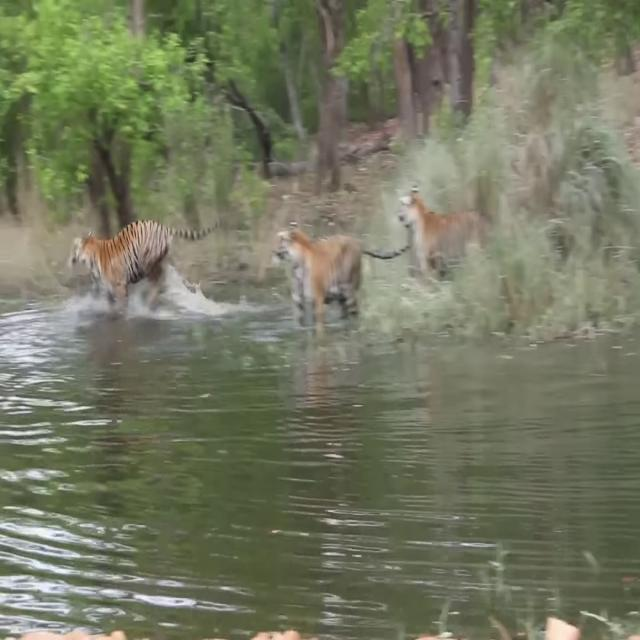tiger: (272, 218, 410, 315), (70, 218, 219, 302), (399, 181, 493, 282)
